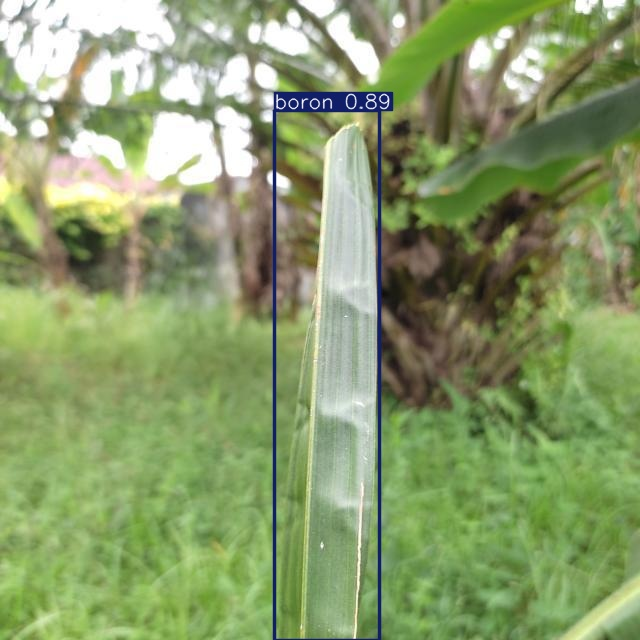nitrogen: (275, 111, 379, 640)
